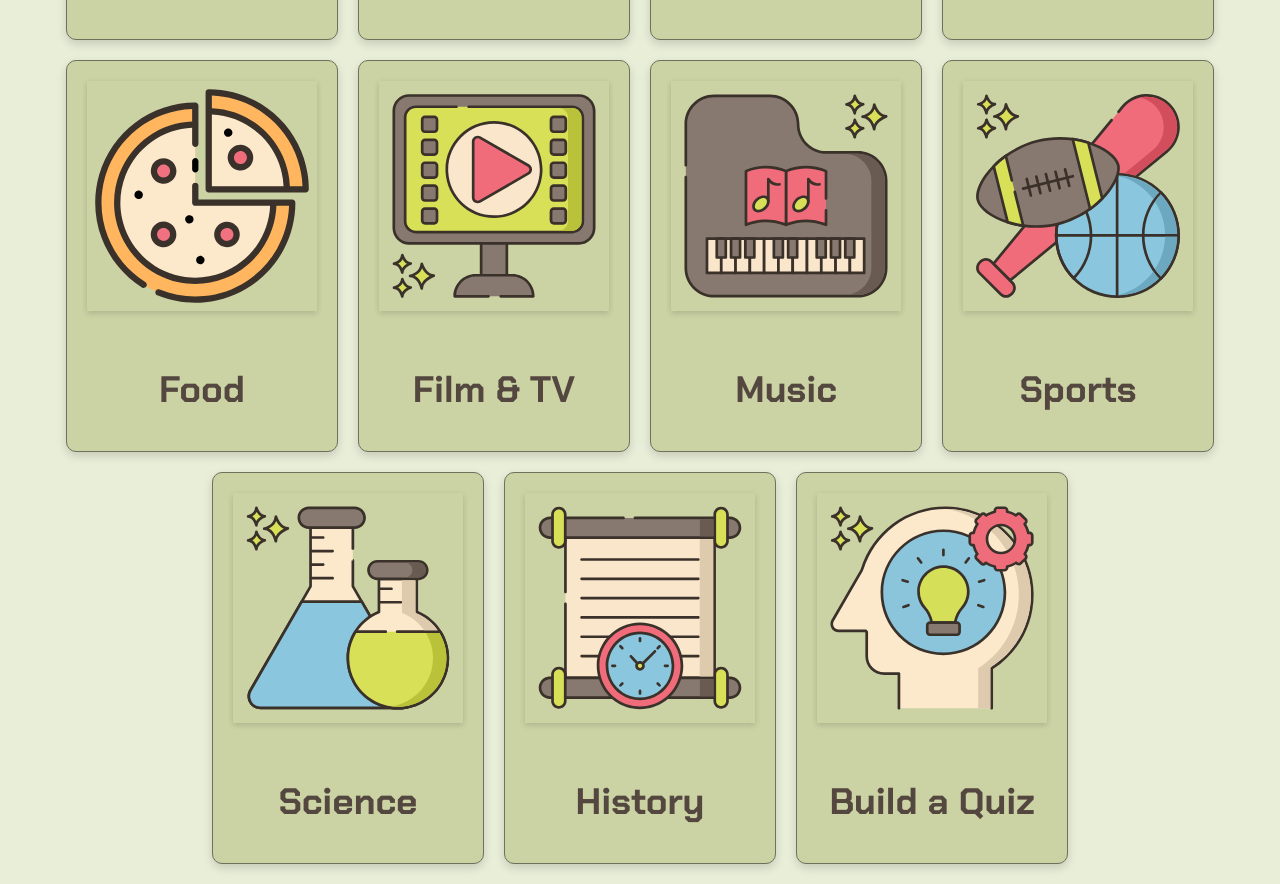
it: QuizCategory › opens custom quiz popup on custom category click
(page scrolled)
Click the picture with alt text "A head with a glowing light bulb and gear, representing the Custom category" at (932, 608), box [817,493,1047,723]
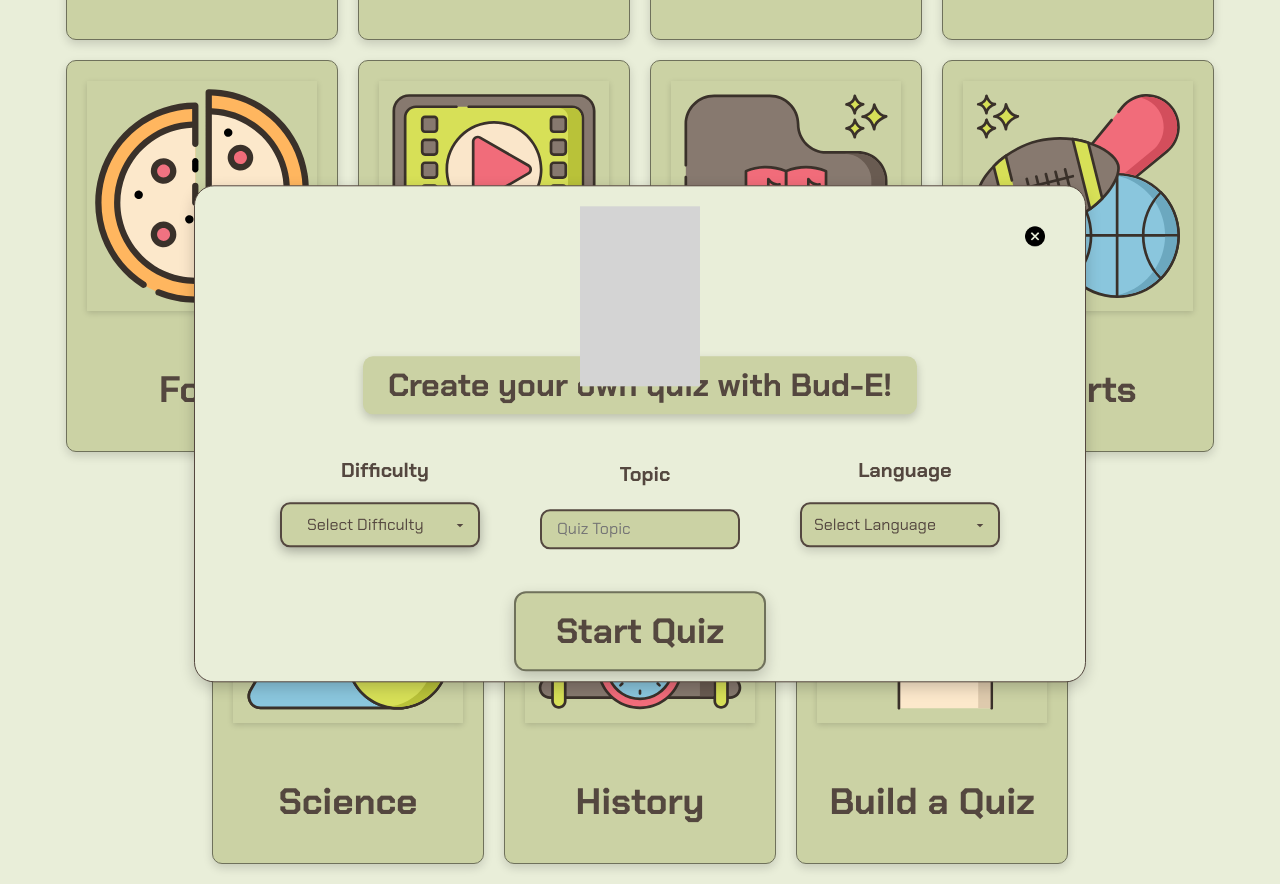
expect the heading "Create your own quiz with Bud-E!" is shown: met, box [363,356,917,415]
